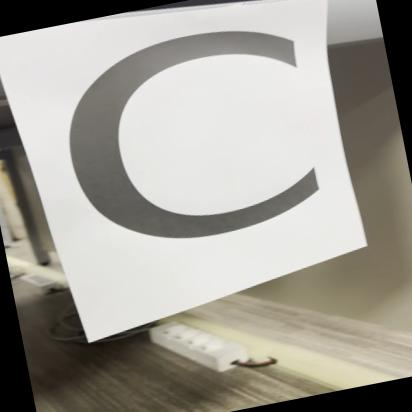seat: (34, 0, 372, 305)
